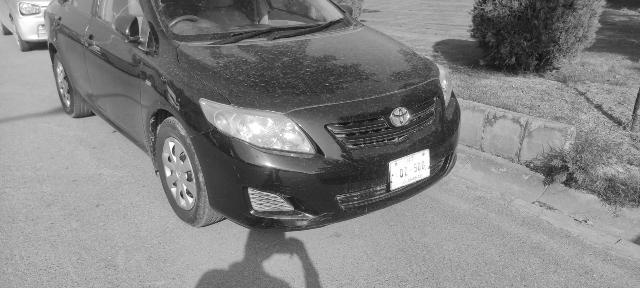Number: (397, 156, 427, 180)
